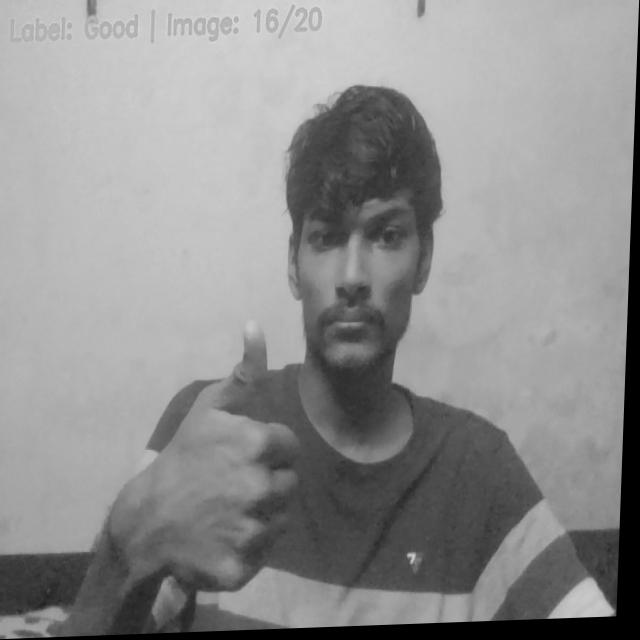Good: (141, 322, 310, 588)
